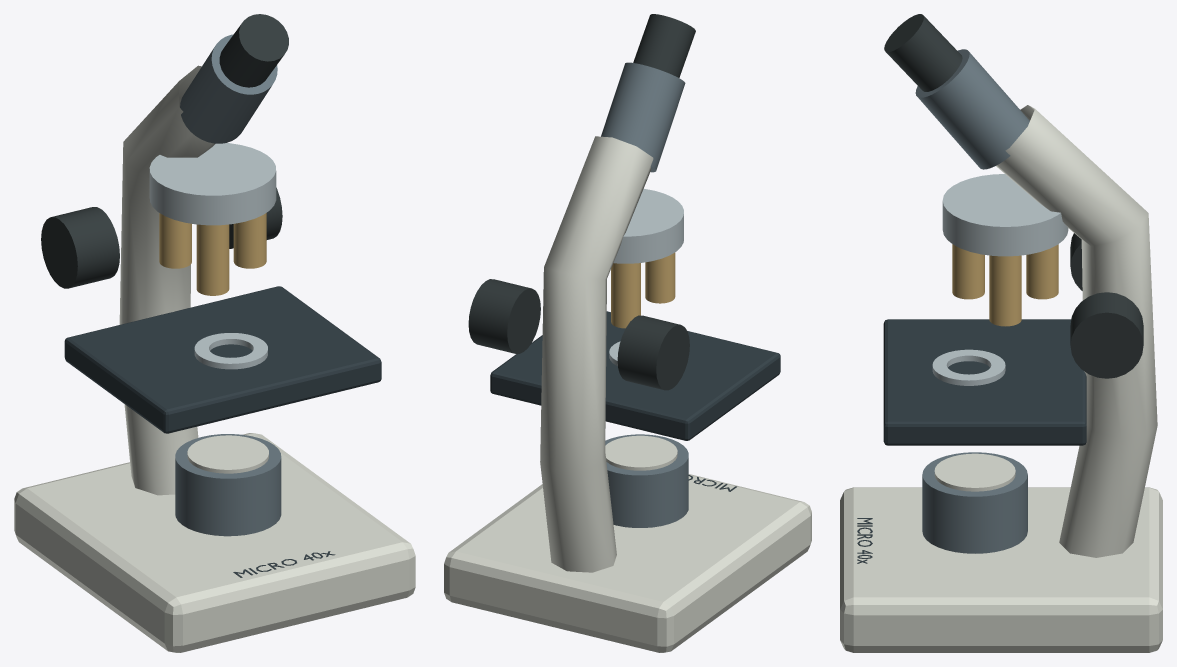
Rendered from loot_microscope.glb.
The picture shows the model from 3 angles, left to right: view 1: azimuth 30°, elevation 25°; view 2: azimuth 150°, elevation 25°; view 3: azimuth 270°, elevation 25°; orthographic projection. The views are drawn at different scales.
Visible parts, largest first — view 1: loot_microscope; view 2: loot_microscope; view 3: loot_microscope.
Part boxes in pixels (x1=…): loot_microscope: x1=14, y1=14, x2=415, y2=652; loot_microscope: x1=444, y1=14, x2=811, y2=652; loot_microscope: x1=840, y1=14, x2=1162, y2=652.
Bounding box in the file's own units: 0.141 × 0.3155 × 0.159.
